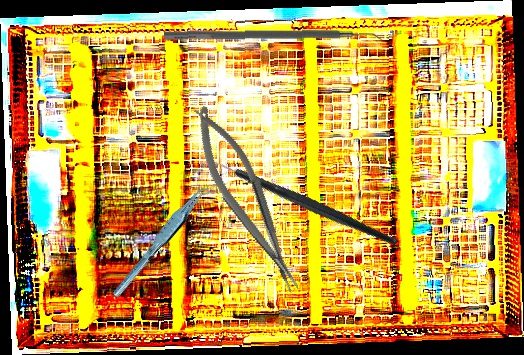Chopper: (196, 104, 400, 304)
Needle Holder: (182, 97, 309, 303)
Spatula Surgical: (163, 27, 384, 50)
Tissue Forceps: (100, 181, 224, 300)
